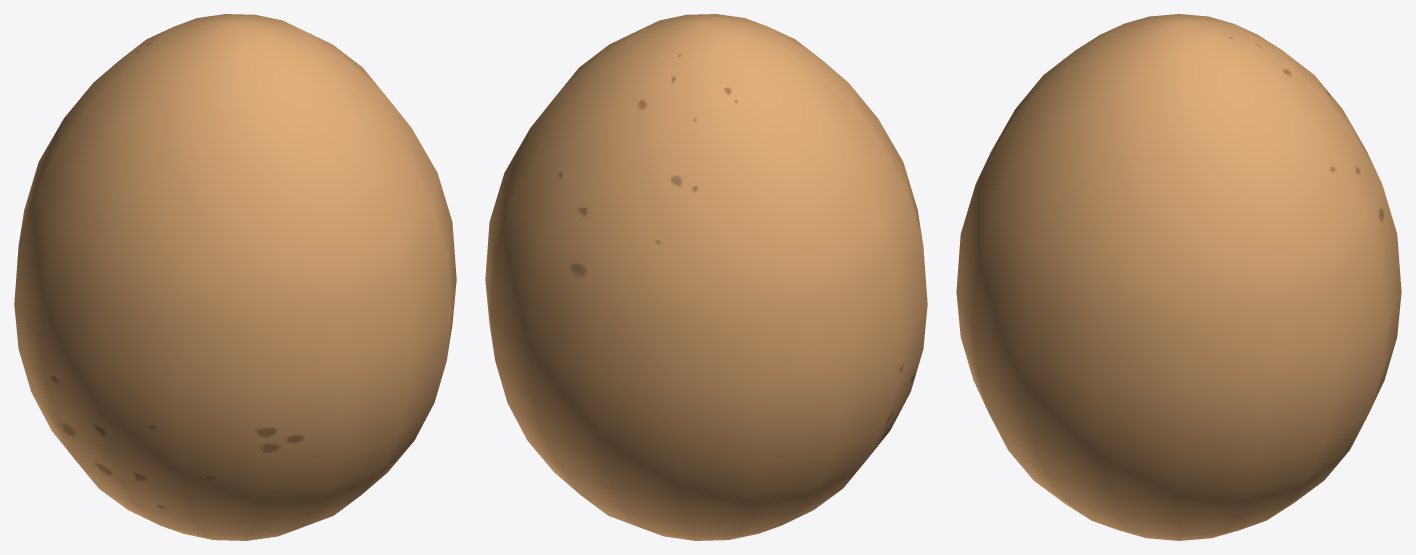
The model's file is egg.fbx.
3 renders of one model, left to right at view 1: azimuth 30°, elevation 25°; view 2: azimuth 150°, elevation 25°; view 3: azimuth 270°, elevation 25°, orthographic.
Parts seen in each view (by area): view 1: pSphere1; view 2: pSphere1; view 3: pSphere1.
Boxes of the visible parts, x1,y1,x2,y2 form: pSphere1: [14, 14, 456, 540]; pSphere1: [485, 14, 927, 540]; pSphere1: [956, 14, 1401, 540].
Size of the model in its own units: 1.88 by 2.31 by 1.87.
Materials: 1 (1 with a texture image).
